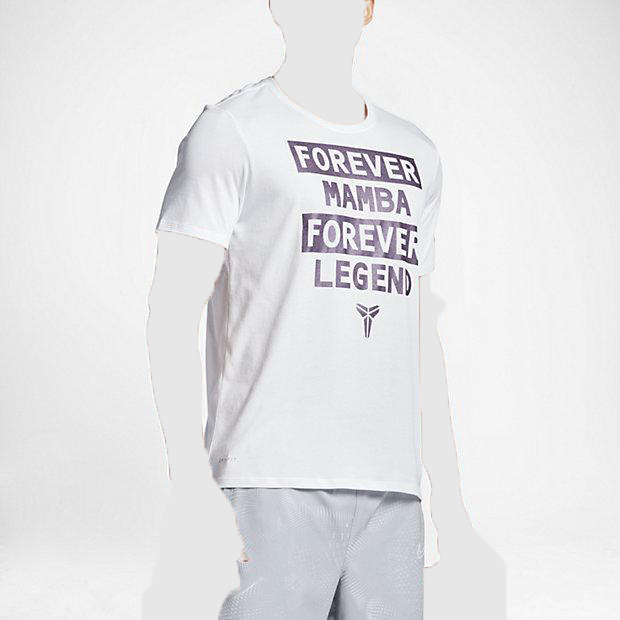teeshirt: (153, 74, 466, 506)
